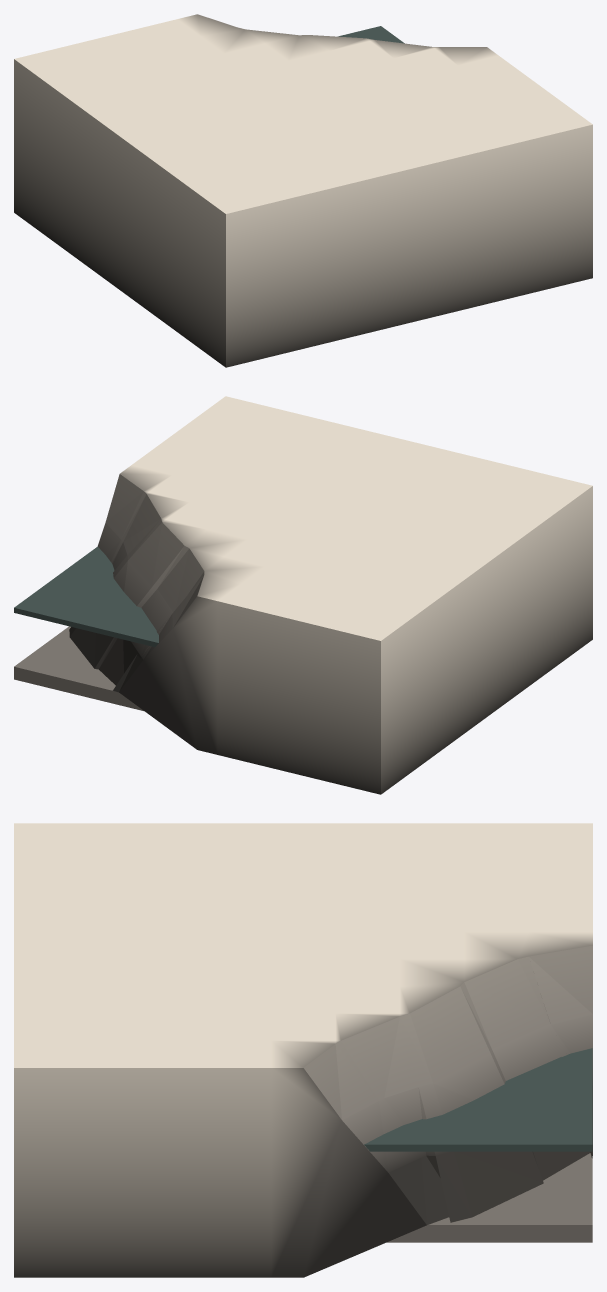
The model's file is SM_VKI_Ground_Stream_OOXO_Q11.fbx.
3 renders of one model, top to bottom at view 1: azimuth 30°, elevation 25°; view 2: azimuth 150°, elevation 25°; view 3: azimuth 270°, elevation 25°, orthographic. The views are drawn at different scales.
Visible parts, largest first — view 1: SM_VKI_Ground_Stream_OOXO_Q11.001; view 2: SM_VKI_Ground_Stream_OOXO_Q11.001; view 3: SM_VKI_Ground_Stream_OOXO_Q11.001.
Boxes of the visible parts, x1=… form: SM_VKI_Ground_Stream_OOXO_Q11.001: x1=14, y1=14, x2=592, y2=367; SM_VKI_Ground_Stream_OOXO_Q11.001: x1=14, y1=396, x2=592, y2=794; SM_VKI_Ground_Stream_OOXO_Q11.001: x1=14, y1=823, x2=592, y2=1277.
Bounding box in the file's own units: 1.5 × 0.6 × 1.5.
